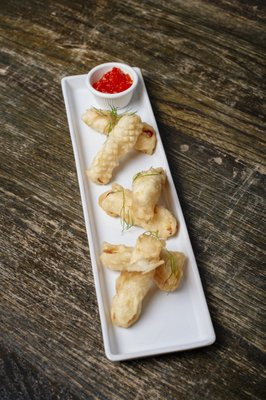sushi: (87, 62, 140, 111)
